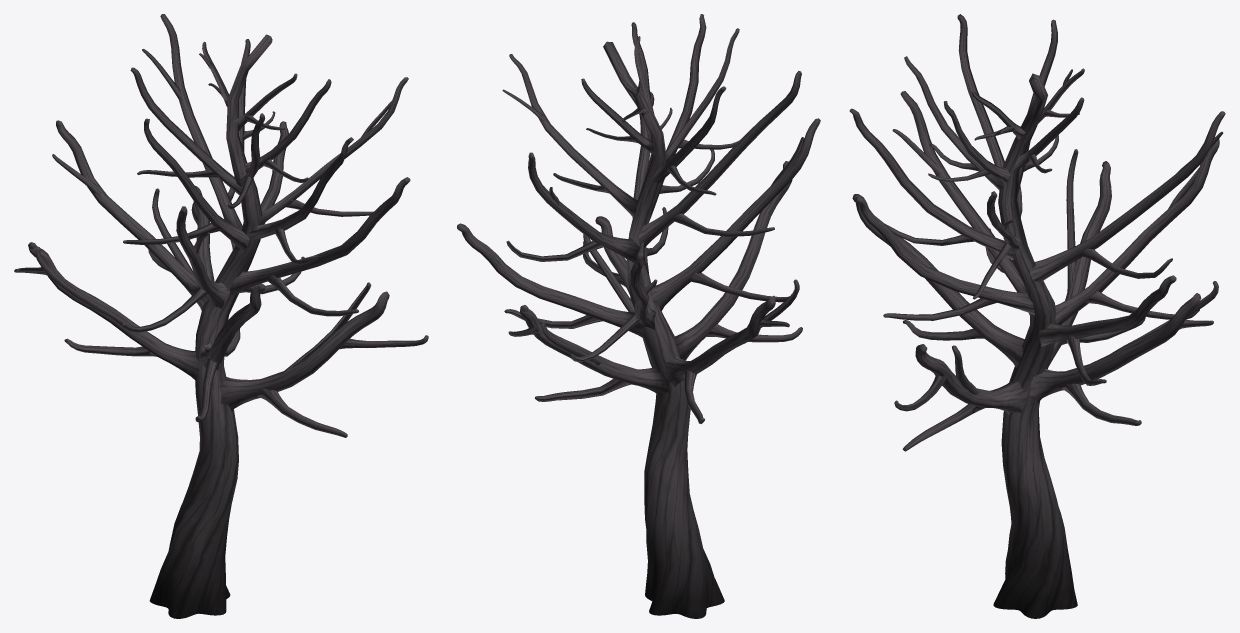
The model's file is tree_dead_1.glb.
3 renders of one model, left to right at view 1: azimuth 30°, elevation 25°; view 2: azimuth 150°, elevation 25°; view 3: azimuth 270°, elevation 25°, orthographic. The views are drawn at different scales.
Visible parts, largest first — view 1: DeadTree_1; view 2: DeadTree_1; view 3: DeadTree_1.
Boxes of the visible parts, box(x1,y1,x2,y2) form: DeadTree_1: box(14, 14, 428, 618); DeadTree_1: box(457, 14, 820, 618); DeadTree_1: box(849, 14, 1225, 618).
Bounding box in the file's own units: 6.15 × 9.5 × 5.75.
Materials: 1 (1 with a texture image).
